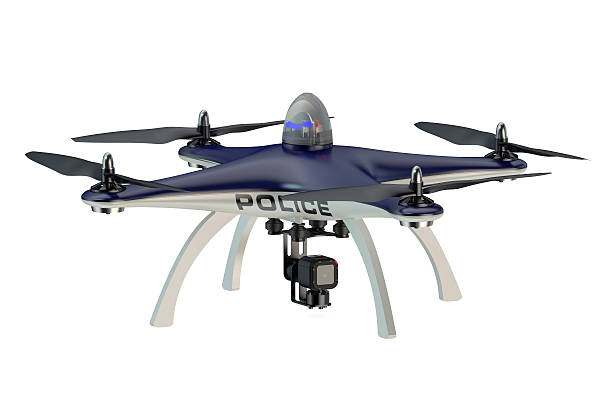Drone: (23, 90, 588, 342)
